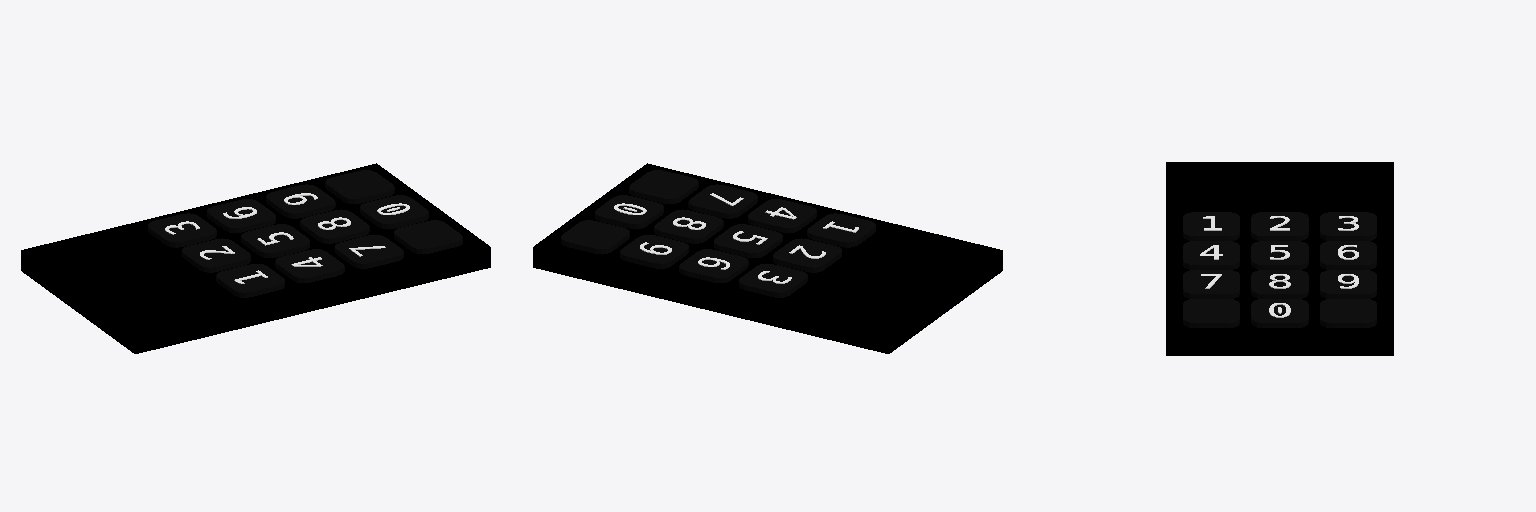
File: keypad.obj
3 renders of one model, left to right at view 1: azimuth 30°, elevation 25°; view 2: azimuth 150°, elevation 25°; view 3: azimuth 270°, elevation 25°, orthographic.
Visible parts, largest first — view 1: Cube_Cube.001, Cube.001_Cube.002; view 2: Cube_Cube.001, Cube.001_Cube.002; view 3: Cube_Cube.001, Cube.001_Cube.002.
Part boxes in pixels (x1,y1,x2,y2): Cube_Cube.001: (21,163,490,353); Cube.001_Cube.002: (148,170,462,297); Cube_Cube.001: (533,163,1002,353); Cube.001_Cube.002: (561,170,875,297); Cube_Cube.001: (1166,162,1393,355); Cube.001_Cube.002: (1183,212,1376,327).
Bounding box in the file's own units: 3.6 × 0.2568 × 2.